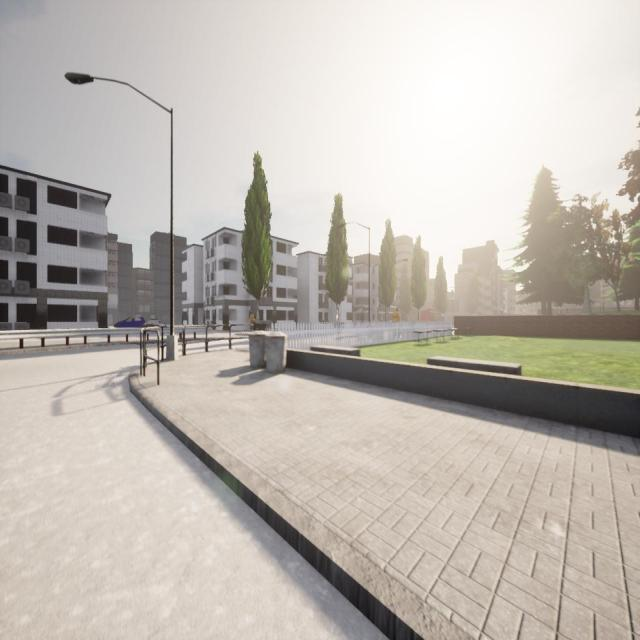Pedestrian: (391, 308, 401, 323), (249, 310, 256, 330)
Vehicle: (114, 316, 145, 328), (139, 318, 165, 327)
traffic_light: (501, 309, 503, 315)
